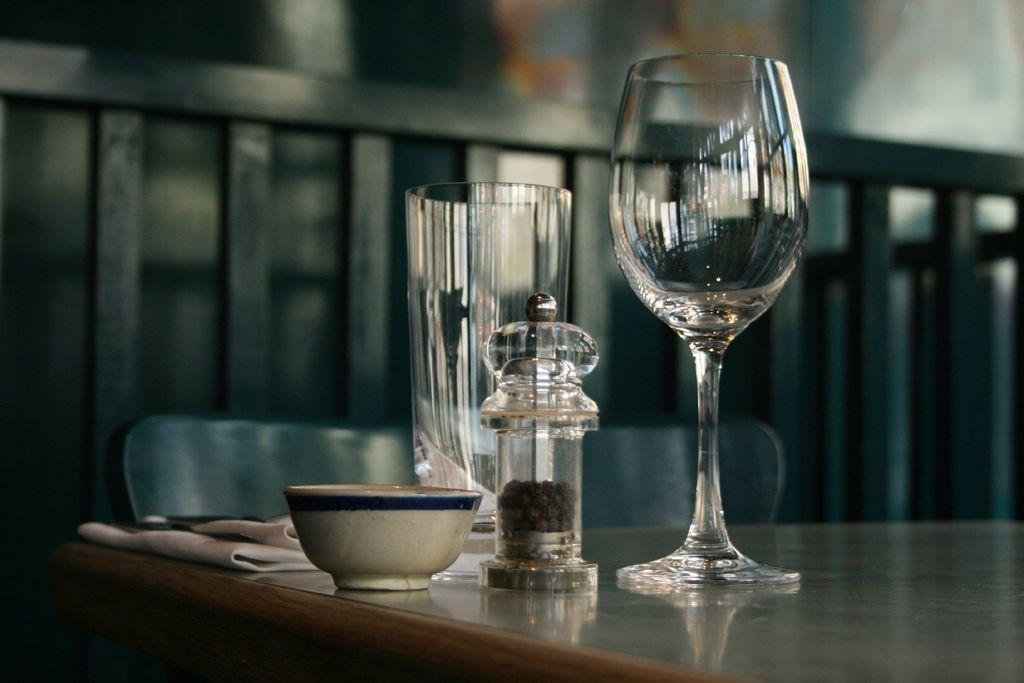glass-normal: (401, 176, 579, 582)
glass-wine: (607, 50, 807, 586)
